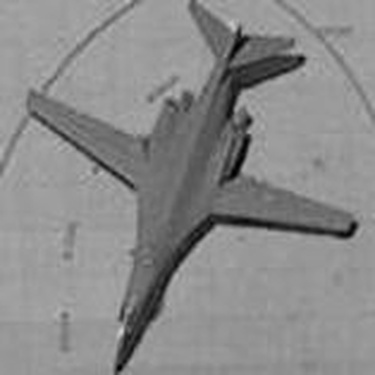airplane: (16, 1, 362, 370)
